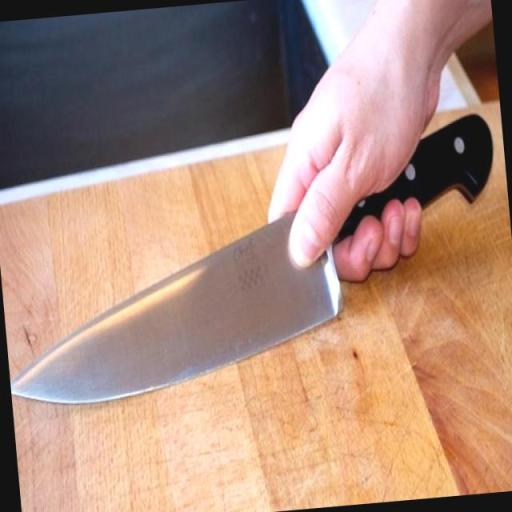knife: (0, 84, 443, 422)
